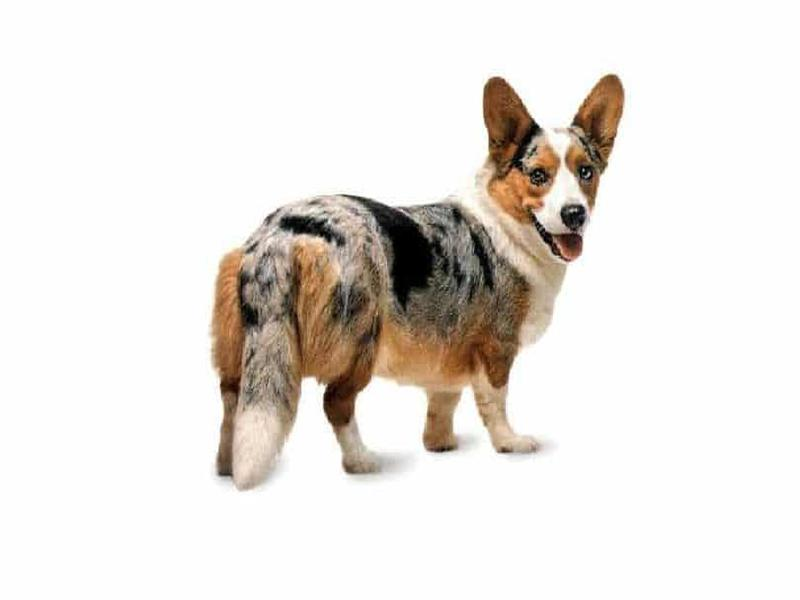corgi: (481, 72, 628, 262)
